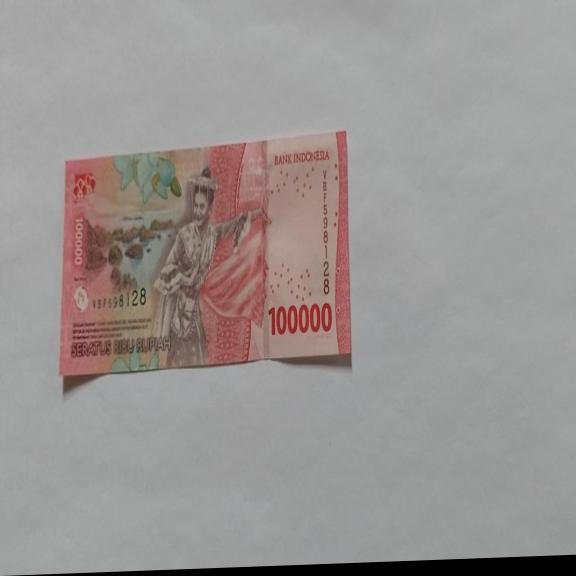Kertas: (59, 128, 352, 380), (268, 300, 333, 337)
